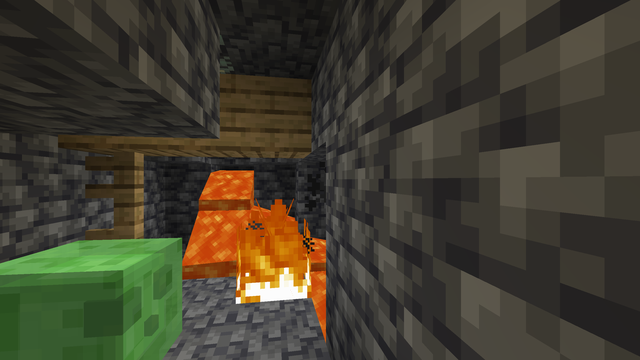slimes: (24, 233, 182, 359)
